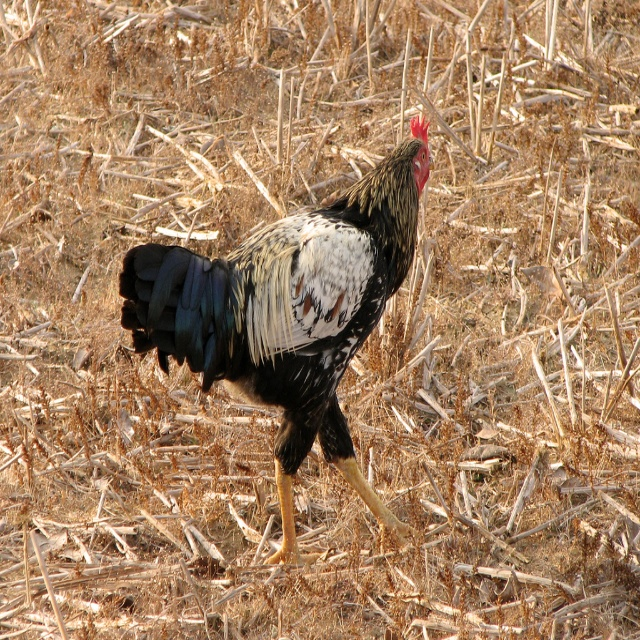Chicken: (118, 113, 435, 585)
